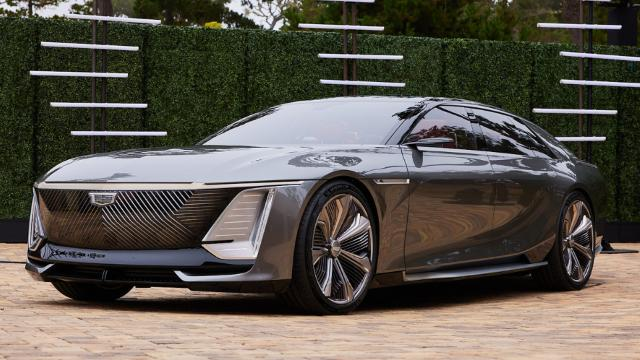cadillac: (24, 95, 606, 315)
